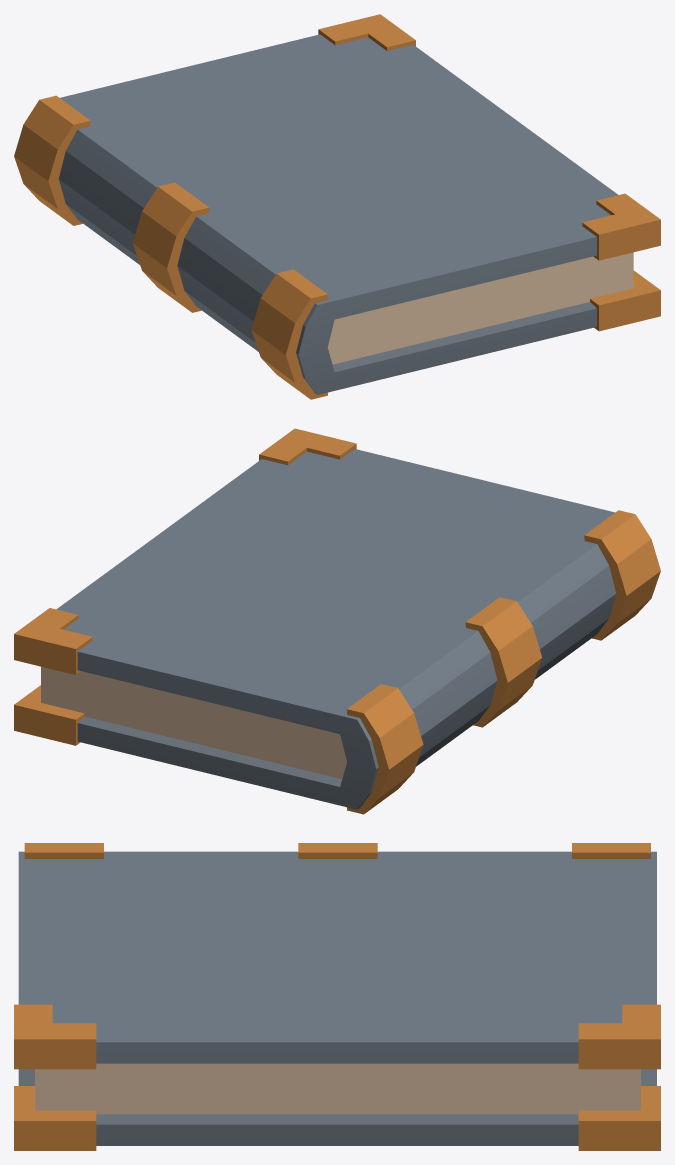
File: Book_07.fbx
3 renders of one model, top to bottom at view 1: azimuth 30°, elevation 25°; view 2: azimuth 150°, elevation 25°; view 3: azimuth 270°, elevation 25°, orthographic. The views are drawn at different scales.
Parts seen in each view (by area): view 1: Book_07; view 2: Book_07; view 3: Book_07.
Part boxes in pixels (box(x1,y1,x2,y2)): Book_07: box(14, 14, 660, 399); Book_07: box(14, 428, 660, 814); Book_07: box(14, 843, 660, 1150).
Size of the model in its own units: 21.17 by 5.52 by 27.76.
